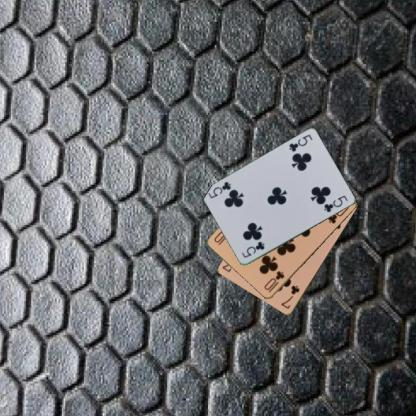10c: (262, 269, 285, 294)
5c: (238, 238, 266, 260), (286, 132, 314, 153)
7c: (279, 283, 301, 310)
